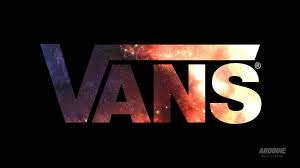vans: (40, 42, 261, 125)
